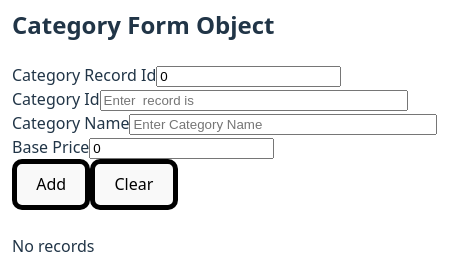
Test: CategoryStateComponent › should clear all input fields when Clear button is clicked
The image size is (454, 269).
Replace the text in the number field with placeholder "Enter Category record is" next to "Category Record Id" with "1". click: x=249, y=76
box: [156, 66, 341, 87]
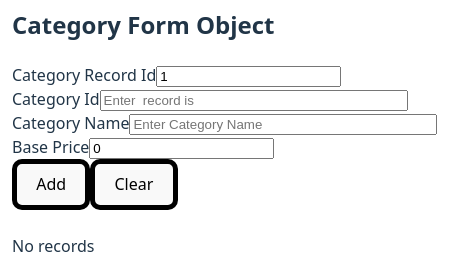
Type "CAT001" into the field with placeholder "Enter record is". click: x=254, y=100
box: [100, 90, 408, 111]
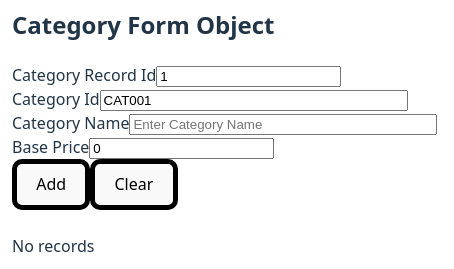
Type "Electronics" into the field with placeholder "Enter Category Name". click: x=284, y=124
box: [130, 114, 438, 135]
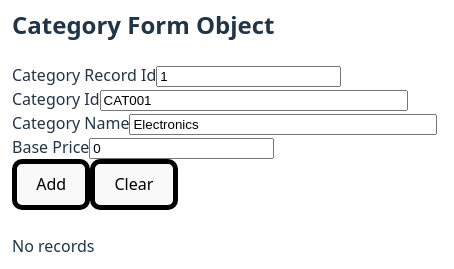
Replace the text in the number field with placeholder "Enter Category record is" next to "Base Price" with "500". click: x=182, y=148
box: [89, 138, 274, 159]
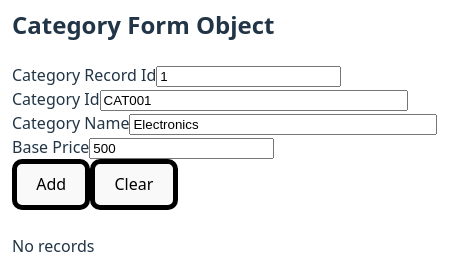
Click the button "Clear". click: x=134, y=184
box: [90, 159, 178, 210]
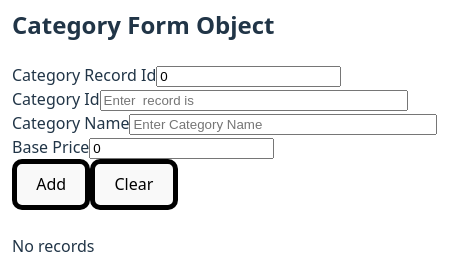
Now the number field with placeholder "Enter Category record is" next to "Category Record Id" holds "0", box [156, 66, 341, 87]
Now the field with placeholder "Enter record is" is empty, box [100, 90, 408, 111]
Now the field with placeholder "Enter Category Name" is empty, box [130, 114, 438, 135]
